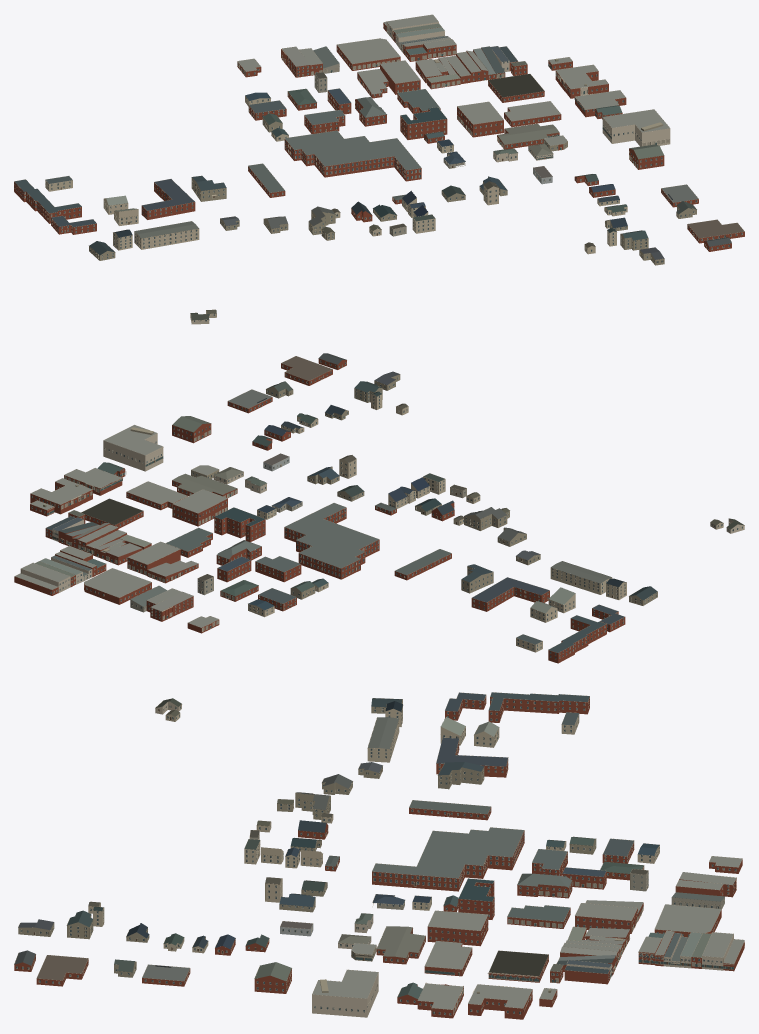
3 views of the same model, one above another, from view 1: azimuth 30°, elevation 25°; view 2: azimuth 150°, elevation 25°; view 3: azimuth 270°, elevation 25° (orthographic). The views are drawn at different scales.
Visible parts, largest first — view 1: -1_0_269019848_1, -1_0_269020722_2, -1_0_451772532_17, -1_0_269020755_3, -1_0_599817367_52; view 2: -1_0_269019848_1, -1_0_269020722_2, -1_0_451772532_17, -1_0_269020755_3, -1_0_599817367_52; view 3: -1_0_269019848_1, -1_0_269020722_2, -1_0_451772532_17, -1_0_269020755_3, -1_0_599817367_52.
Part boxes in pixels (x1,y1,x2,y2): -1_0_269019848_1: [14, 14, 744, 321]; -1_0_269020722_2: [14, 23, 744, 265]; -1_0_451772532_17: [45, 96, 627, 317]; -1_0_269020755_3: [190, 22, 670, 324]; -1_0_599817367_52: [314, 63, 464, 236]; -1_0_269019848_1: [14, 353, 744, 659]; -1_0_269020722_2: [14, 358, 657, 663]; -1_0_451772532_17: [248, 394, 723, 652]; -1_0_269020755_3: [20, 433, 744, 593]; -1_0_599817367_52: [130, 487, 466, 612]; -1_0_269019848_1: [14, 692, 744, 1015]; -1_0_269020722_2: [14, 695, 744, 1019]; -1_0_451772532_17: [88, 707, 659, 953]; -1_0_269020755_3: [155, 701, 733, 1017]; -1_0_599817367_52: [249, 832, 724, 909].
Size of the model in its own units: 537 by 21.78 by 515.
